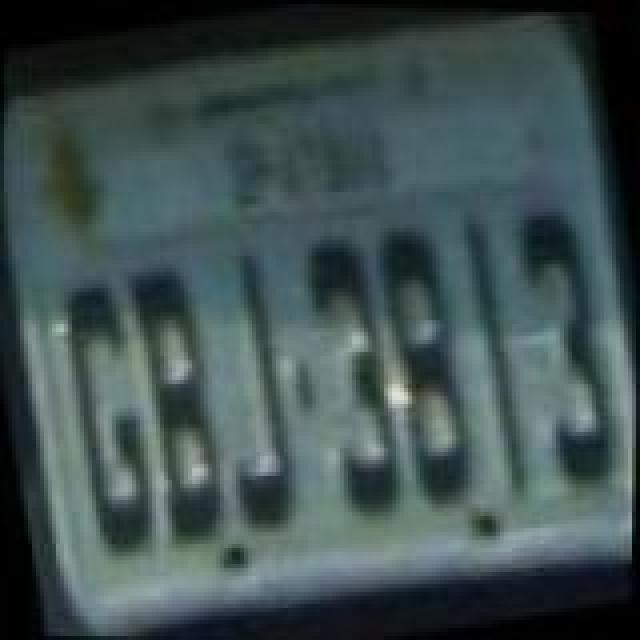1: (454, 214, 534, 494)
3: (294, 230, 414, 530), (506, 200, 626, 492)
8: (370, 220, 490, 516)
B: (116, 256, 236, 544)
G: (48, 274, 168, 562)
J: (192, 242, 312, 534)
